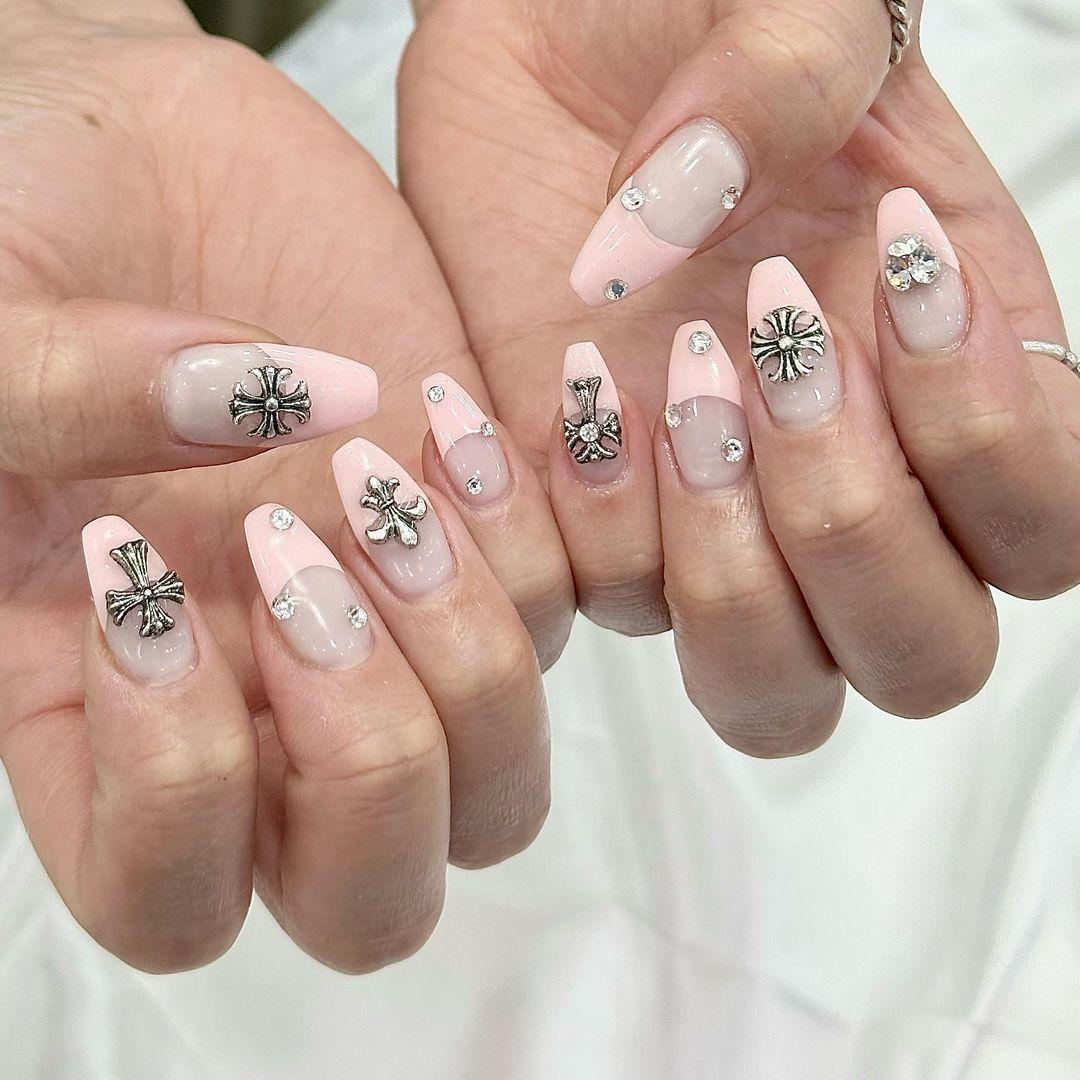nail: (568, 113, 750, 306), (158, 340, 379, 450), (242, 501, 374, 670), (331, 435, 457, 600), (80, 512, 199, 686), (745, 254, 845, 431), (873, 184, 971, 357), (662, 318, 752, 490), (420, 370, 514, 510), (558, 339, 630, 487)
